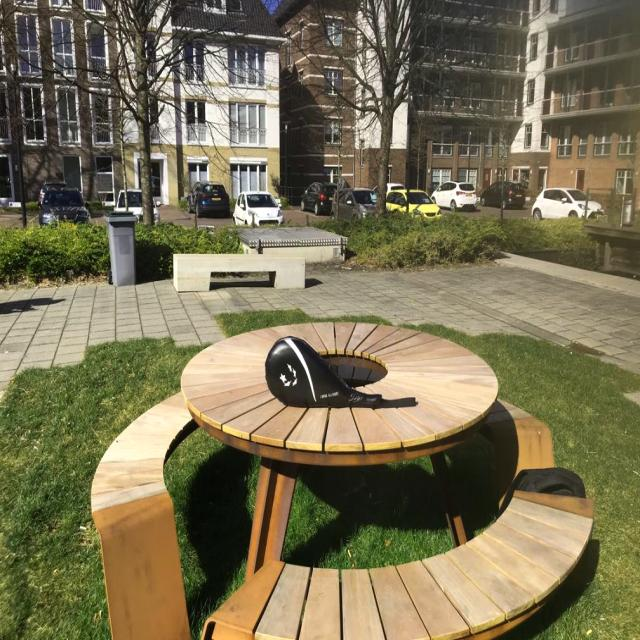paddle: (264, 334, 382, 410)
